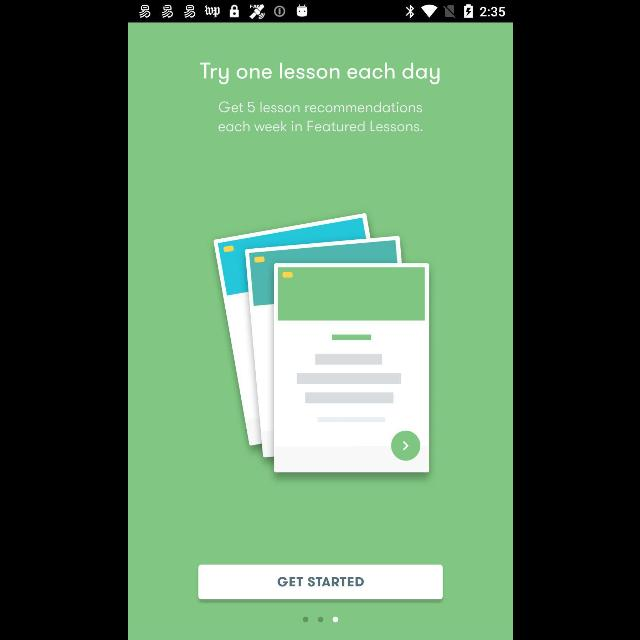image: (213, 213, 429, 473)
pageindicator: (302, 616, 338, 622)
text: (218, 102, 422, 132), (199, 63, 439, 85)
textbutton: (198, 564, 442, 600)
uppertaskbar: (128, 1, 512, 23)
